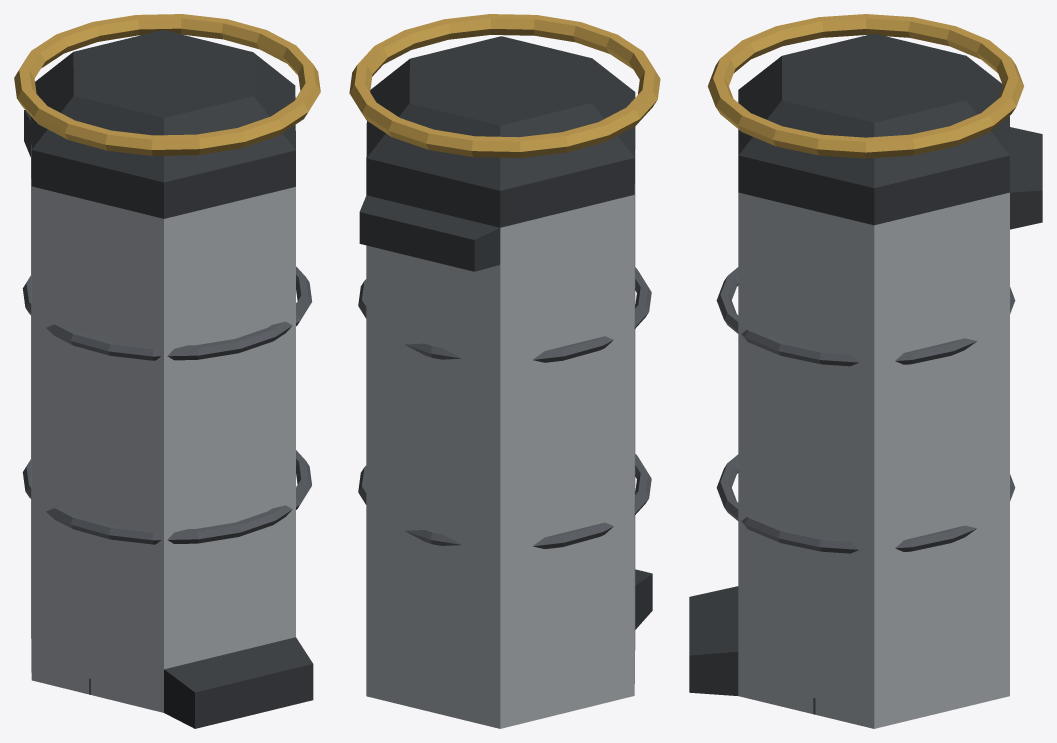
Rendered from trashcan.glb.
The picture shows the model from 3 angles, left to right: view 1: azimuth 30°, elevation 25°; view 2: azimuth 150°, elevation 25°; view 3: azimuth 270°, elevation 25°; orthographic projection.
Parts seen in each view (by area): view 1: trashcan(Clone); view 2: trashcan(Clone); view 3: trashcan(Clone).
Part boxes in pixels (x1,y1,x2,y2): trashcan(Clone): (14,14,320,728); trashcan(Clone): (349,14,660,728); trashcan(Clone): (689,14,1042,728).
Bounding box in the file's own units: 0.2077 × 0.4279 × 0.2341.
